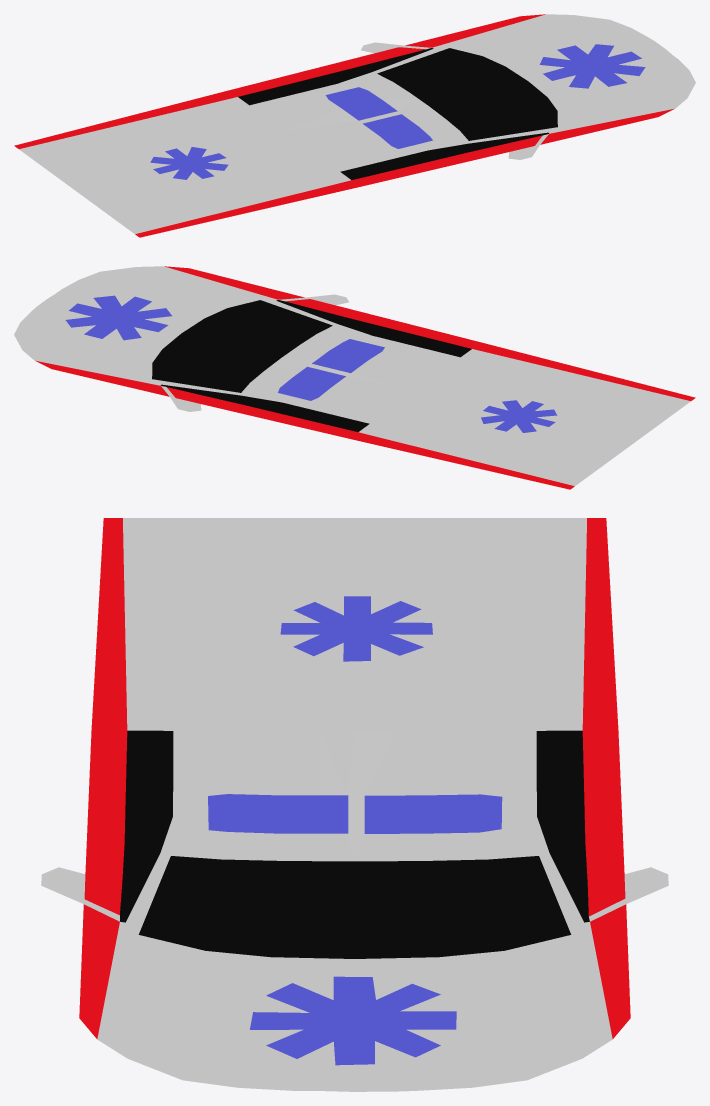
The model's file is karetka.dae.
The picture shows the model from 3 angles, top to bottom: view 1: azimuth 30°, elevation 25°; view 2: azimuth 150°, elevation 25°; view 3: azimuth 270°, elevation 25°; orthographic projection. The views are drawn at different scales.
Parts seen in each view (by area): view 1: Plane; view 2: Plane; view 3: Plane.
Part boxes in pixels (<box>): Plane: <box>14,14,695,237</box>; Plane: <box>14,266,695,489</box>; Plane: <box>41,518,668,1091</box>.
Bounding box in the file's own units: 3.83 × 1.77 × 0.000735.
